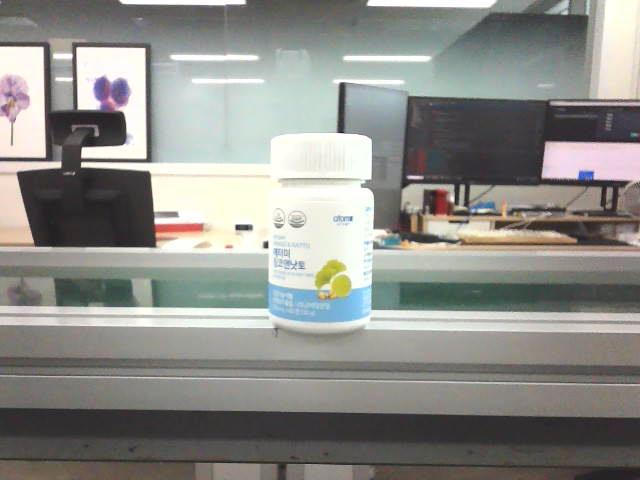labeled: (266, 129, 376, 338)
